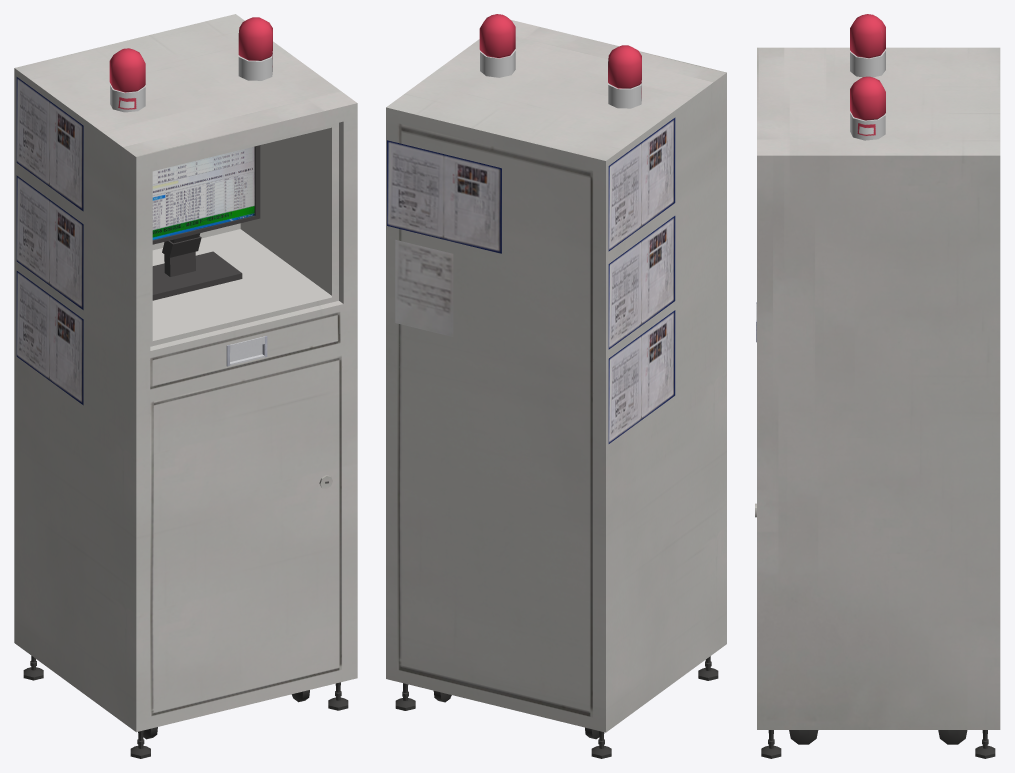
Rendered from caozuo.FBX.
The picture shows the model from 3 angles, left to right: view 1: azimuth 30°, elevation 25°; view 2: azimuth 150°, elevation 25°; view 3: azimuth 270°, elevation 25°; orthographic projection.
Parts seen in each view (by area): view 1: YF_Model_caozuo; view 2: YF_Model_caozuo; view 3: YF_Model_caozuo.
Boxes of the visible parts, x1,y1,x2,y2 form: YF_Model_caozuo: [14, 14, 357, 758]; YF_Model_caozuo: [386, 14, 726, 758]; YF_Model_caozuo: [755, 14, 1000, 758].
Size of the model in its own units: 68.97 by 196 by 66.37.
